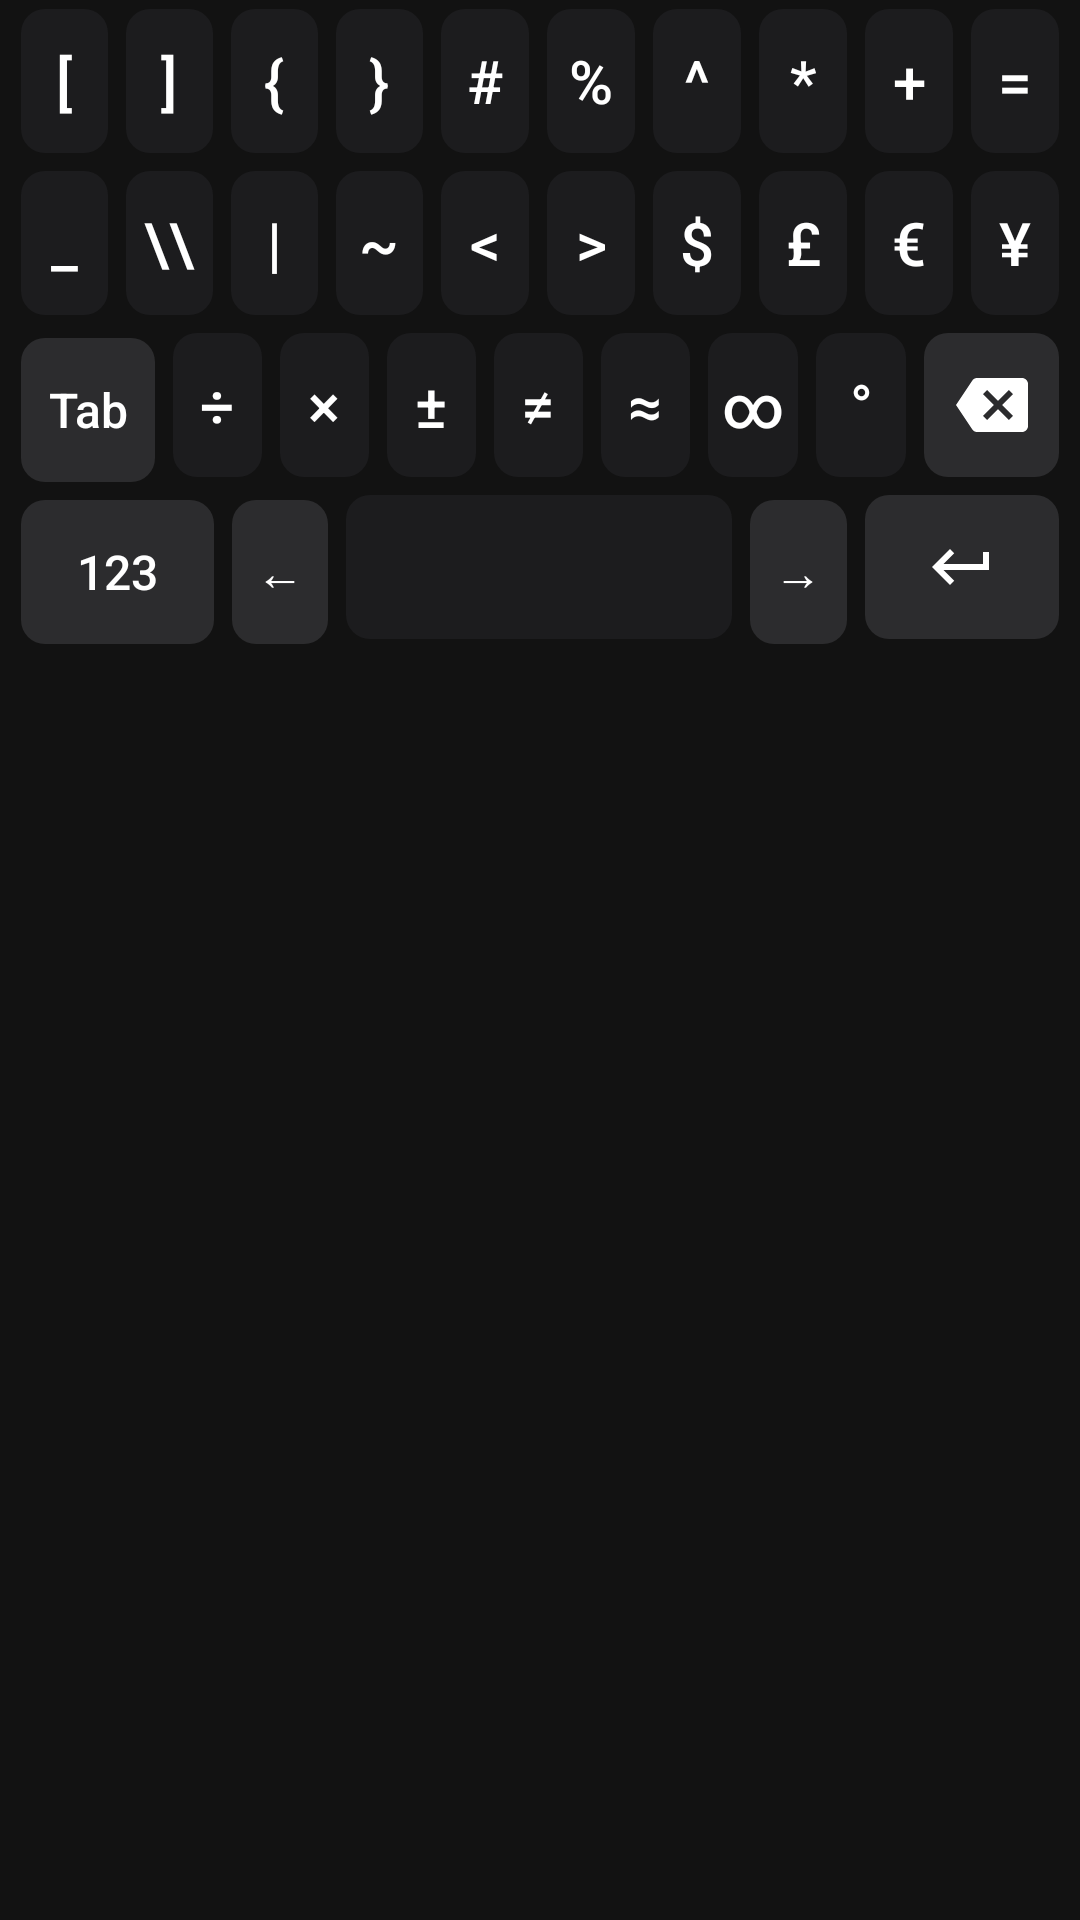

Where icons sit on this 1080w x 1920h app screen, as (x1, y1, x2, y2):
Backspace: (924, 333, 1059, 477)
Enter: (865, 495, 1059, 639)
